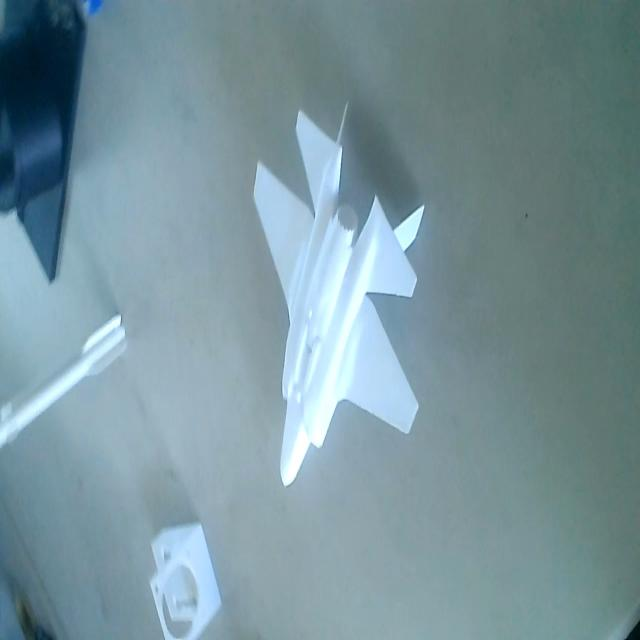Jet: (248, 93, 427, 494)
Rocket: (0, 308, 128, 460)
